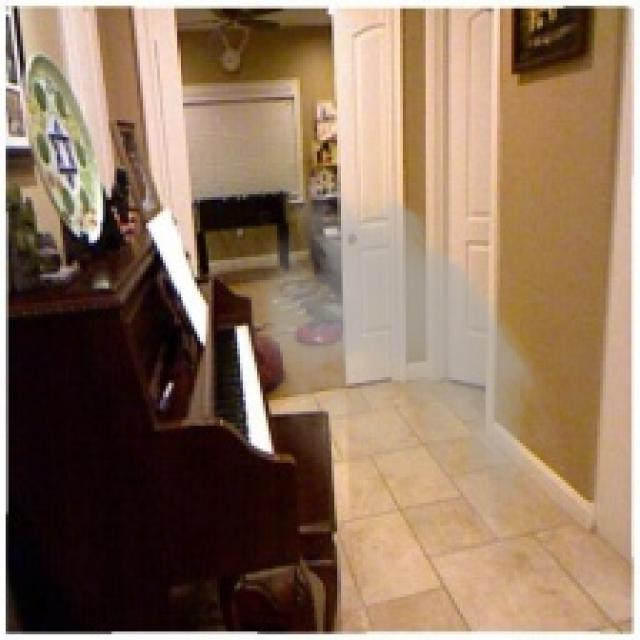Smoke: (226, 166, 574, 592)
